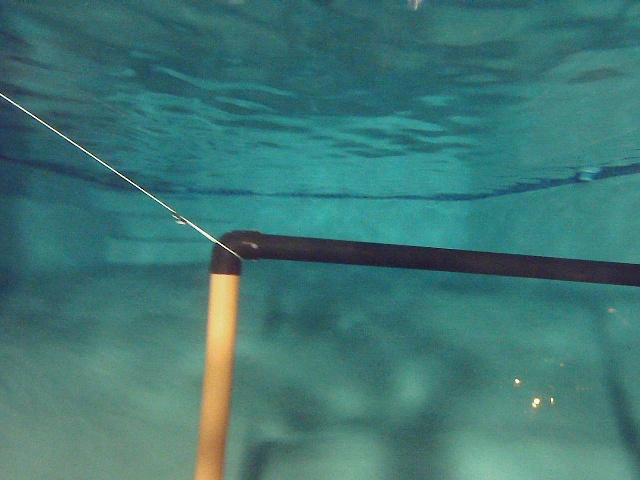Gate: (190, 222, 640, 479)
